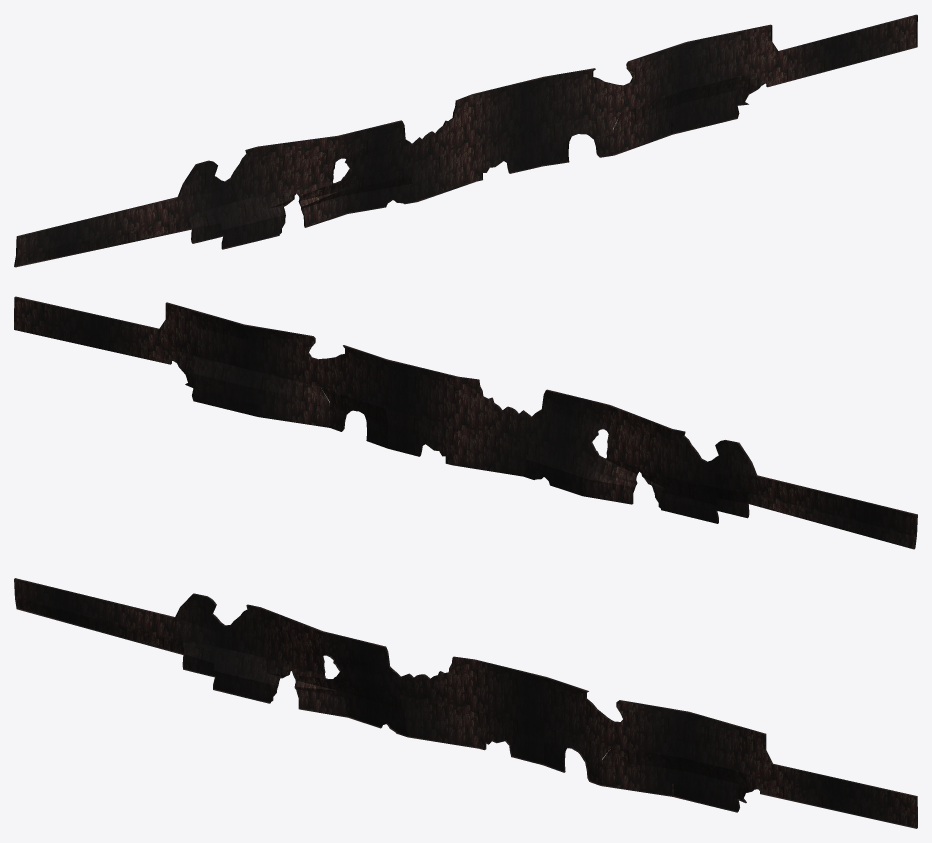
Rendered from Area01_Room02_BG.fbx.
The picture shows the model from 3 angles, top to bottom: view 1: azimuth 30°, elevation 25°; view 2: azimuth 150°, elevation 25°; view 3: azimuth 330°, elevation 25°; orthographic projection.
Visible parts, largest first — view 1: polySurface333; view 2: polySurface333; view 3: polySurface333.
Boxes of the visible parts, x1,y1,x2,y2 form: polySurface333: (14,14,917,267); polySurface333: (14,296,917,549); polySurface333: (14,578,917,828).
Size of the model in its own units: 29.4 by 2.75 by 0.6334.
